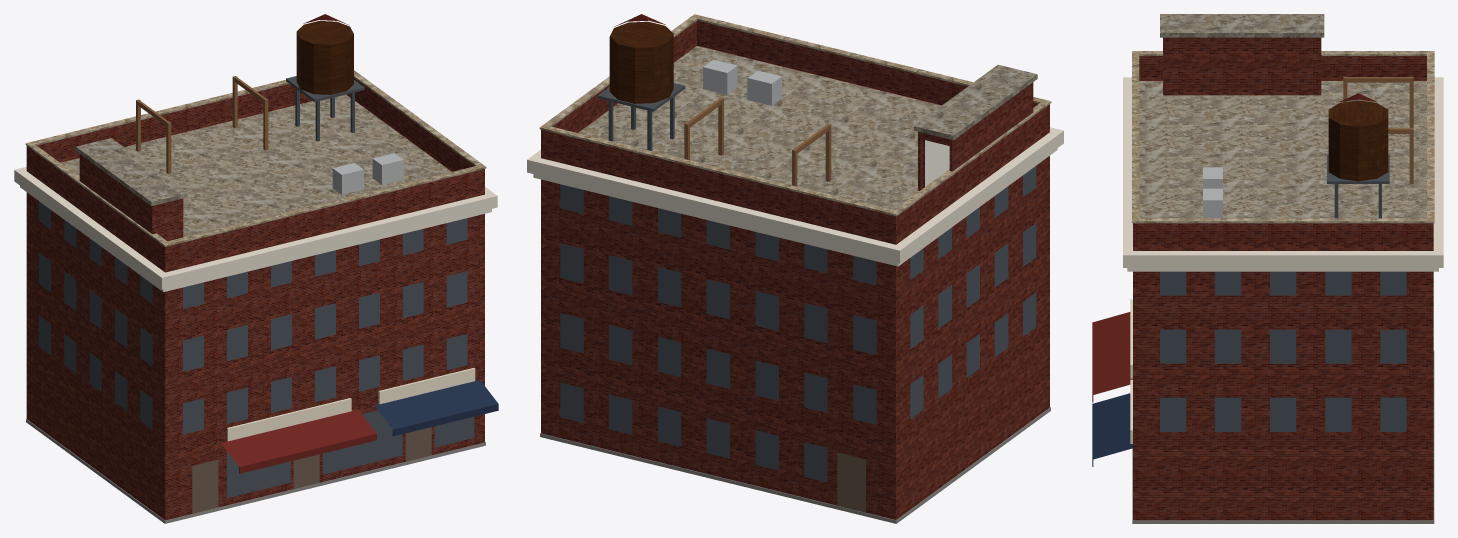
File: ns-main-street.towns-v1.lod1.glb
3 views of the same model, side by side, from view 1: azimuth 30°, elevation 25°; view 2: azimuth 150°, elevation 25°; view 3: azimuth 270°, elevation 25° (orthographic). The views are drawn at different scales.
Visible parts, largest first — view 1: ns-main-street; view 2: ns-main-street; view 3: ns-main-street.
Boxes of the visible parts, x1=… form: ns-main-street: x1=14, y1=14, x2=498, y2=523; ns-main-street: x1=527, y1=14, x2=1063, y2=523; ns-main-street: x1=1092, y1=14, x2=1443, y2=523.
Bounding box in the file's own units: 16.8 × 17.65 × 14.02.
Materials: 4 (3 with a texture image).
